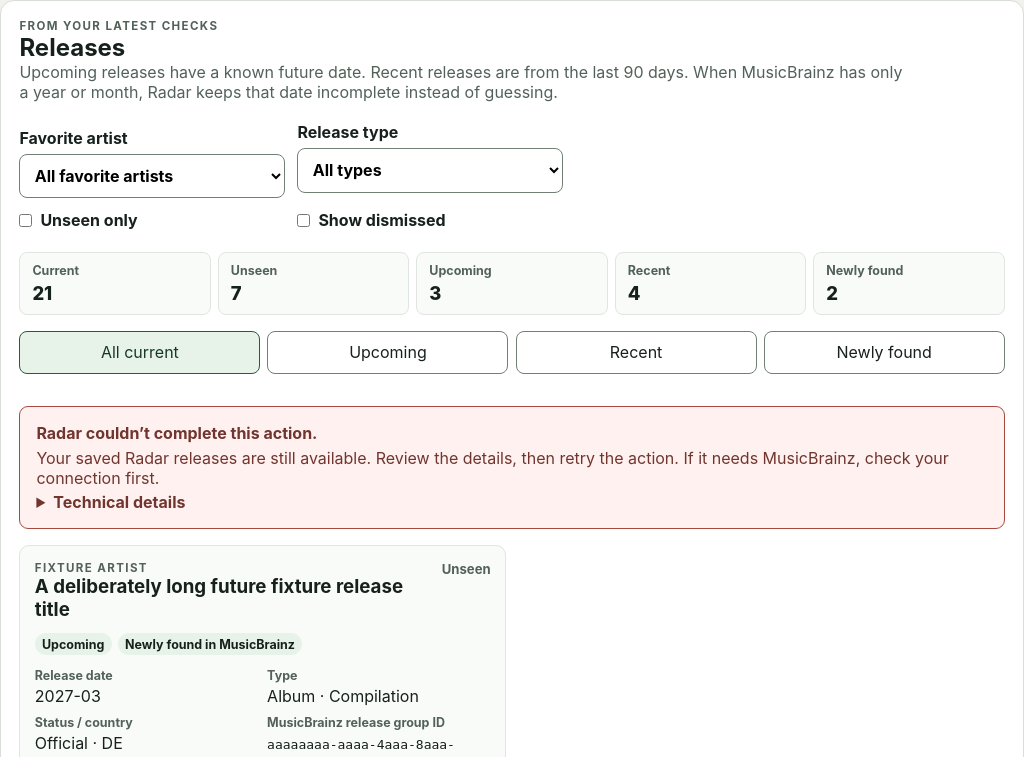
Test: Radar releases › keeps the last successful view visible and progressively discloses a refresh failure
expect the message named "Radar request error" shows "Radar couldn’t complete this action.": met, box [36, 423, 318, 443]
expect the message named "Radar request error" shows "Your saved Radar releases are still available": met, box [36, 448, 949, 488]
Click the heading "Technical details" at (119, 502), box [53, 492, 185, 512]
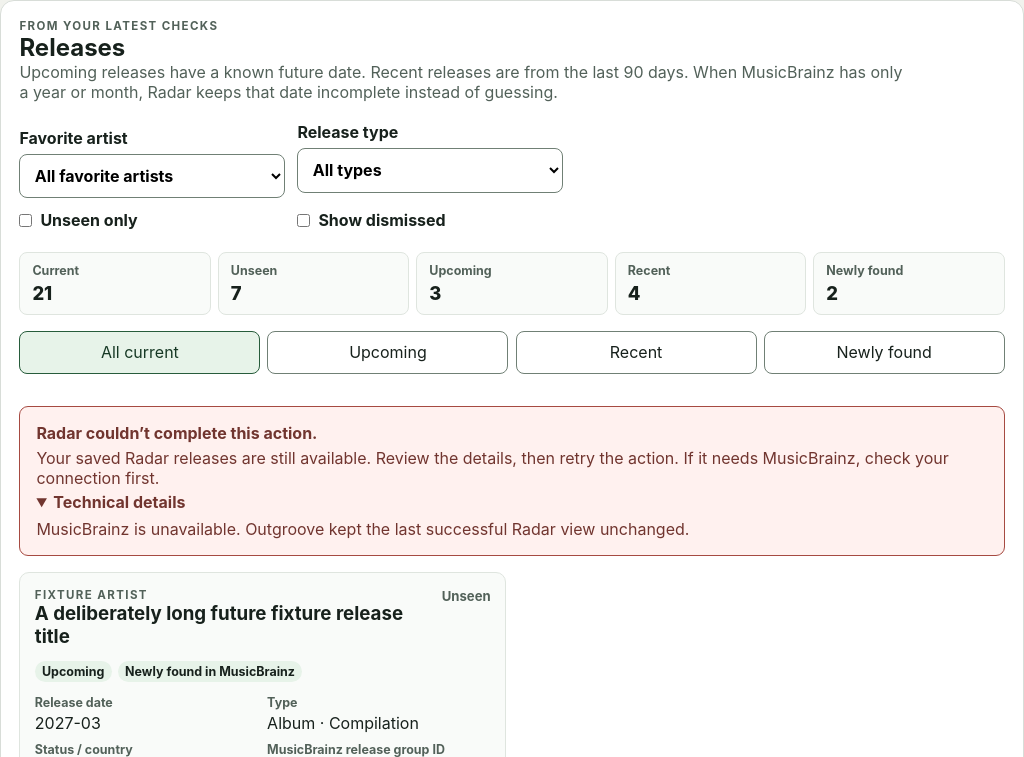
expect the text "last successful Radar view" is shown: met, box [36, 520, 689, 540]
